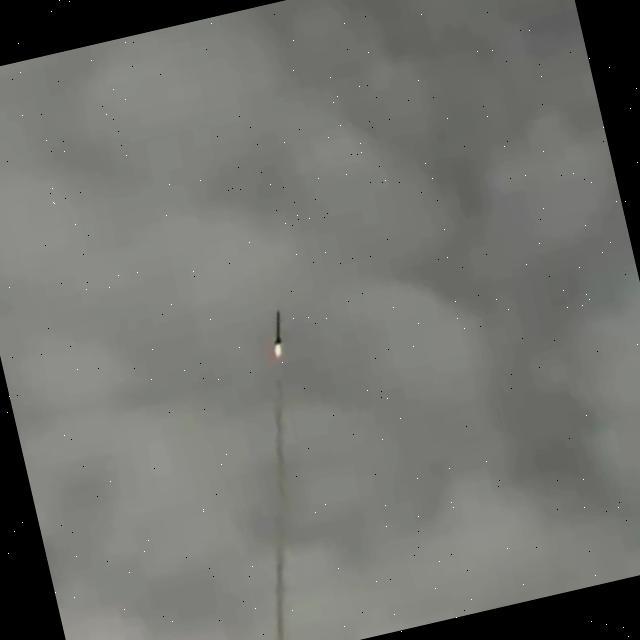rocket: (269, 311, 284, 359)
